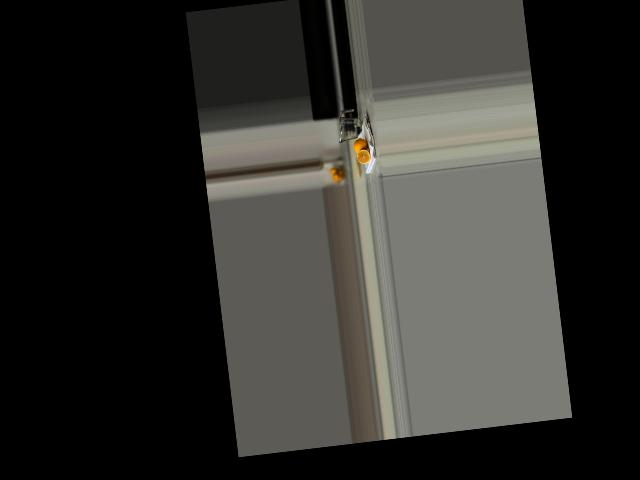lemon: (352, 136, 368, 155)
